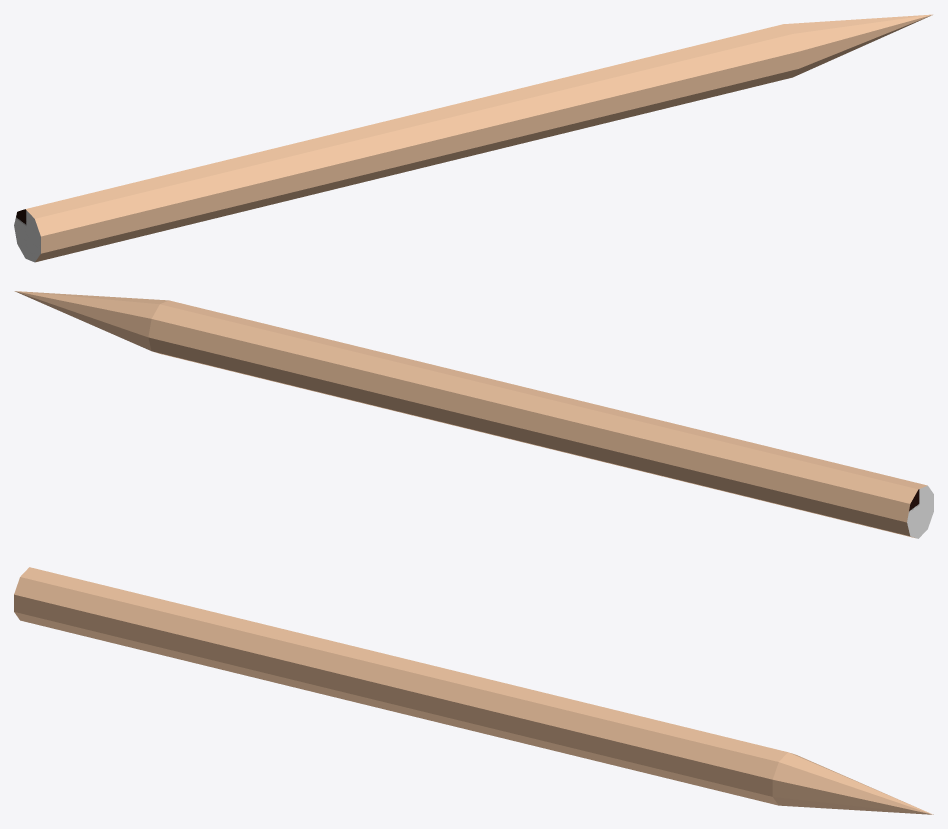
Rendered from kurdan.fbx.
The picture shows the model from 3 angles, top to bottom: view 1: azimuth 30°, elevation 25°; view 2: azimuth 150°, elevation 25°; view 3: azimuth 330°, elevation 25°; orthographic projection.
Visible parts, largest first — view 1: kurdan; view 2: kurdan; view 3: kurdan.
Boxes of the visible parts, x1=… form: kurdan: x1=14, y1=14, x2=932, y2=262; kurdan: x1=14, y1=291, x2=933, y2=538; kurdan: x1=14, y1=567, x2=933, y2=814.
Bounding box in the file's own units: 132 × 6.87 × 6.77.
Materials: 1 (1 with a texture image).
